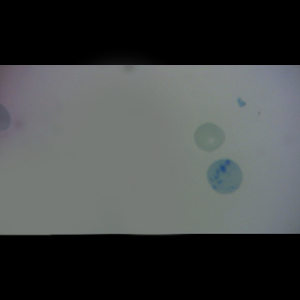aggregate reticulocyte: (205, 158, 244, 195)
erythrocyte: (192, 122, 227, 153)
